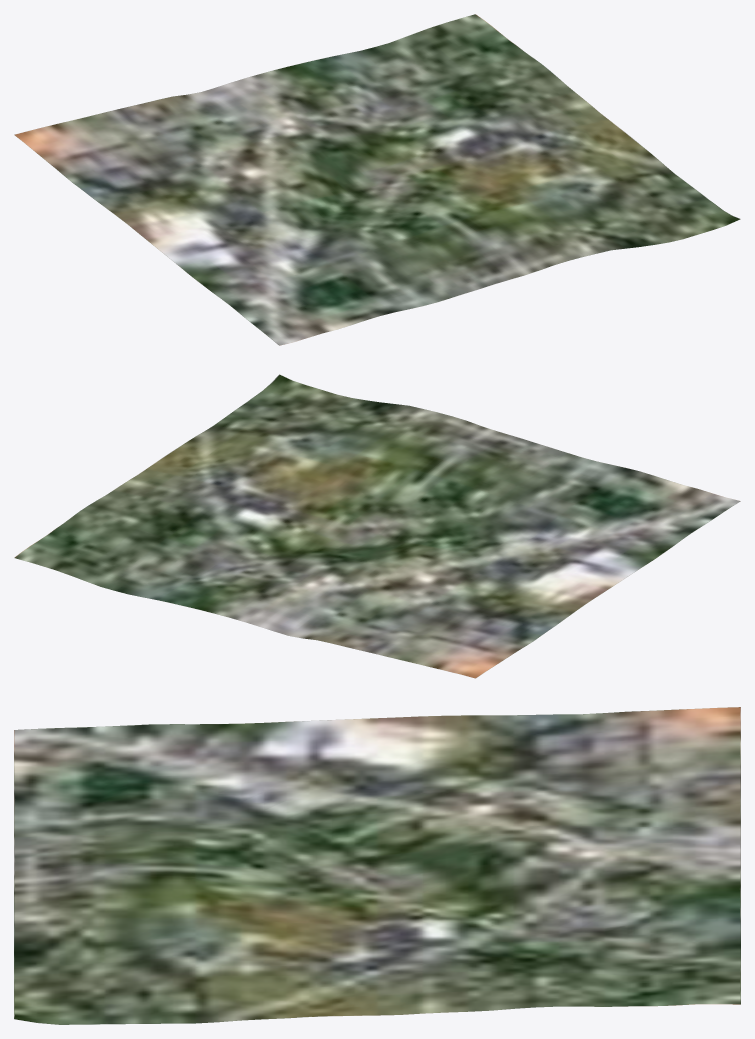
3 views of the same model, one above another, from view 1: azimuth 30°, elevation 25°; view 2: azimuth 150°, elevation 25°; view 3: azimuth 270°, elevation 25° (orthographic). The views are drawn at different scales.
Bounding box in the file's own units: 975 × 50.64 × 971.
1 material, 1 textured.
